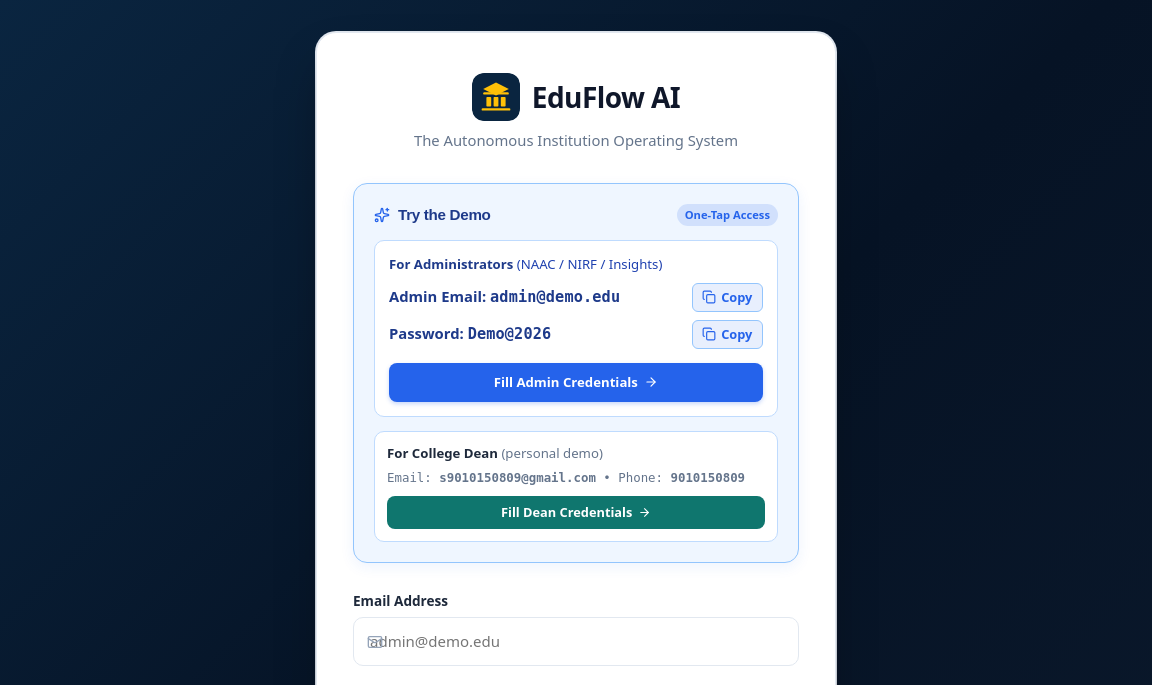
it: LoginPage Component › 503 response shows "Database not seeded yet" with emergency seed link
What coordinates should you click on to do the following:
click the button "Fill Admin Credentials"
I would click on:
 (576, 382)
Its box is left=389, top=363, right=763, bottom=402.
(page scrolled)
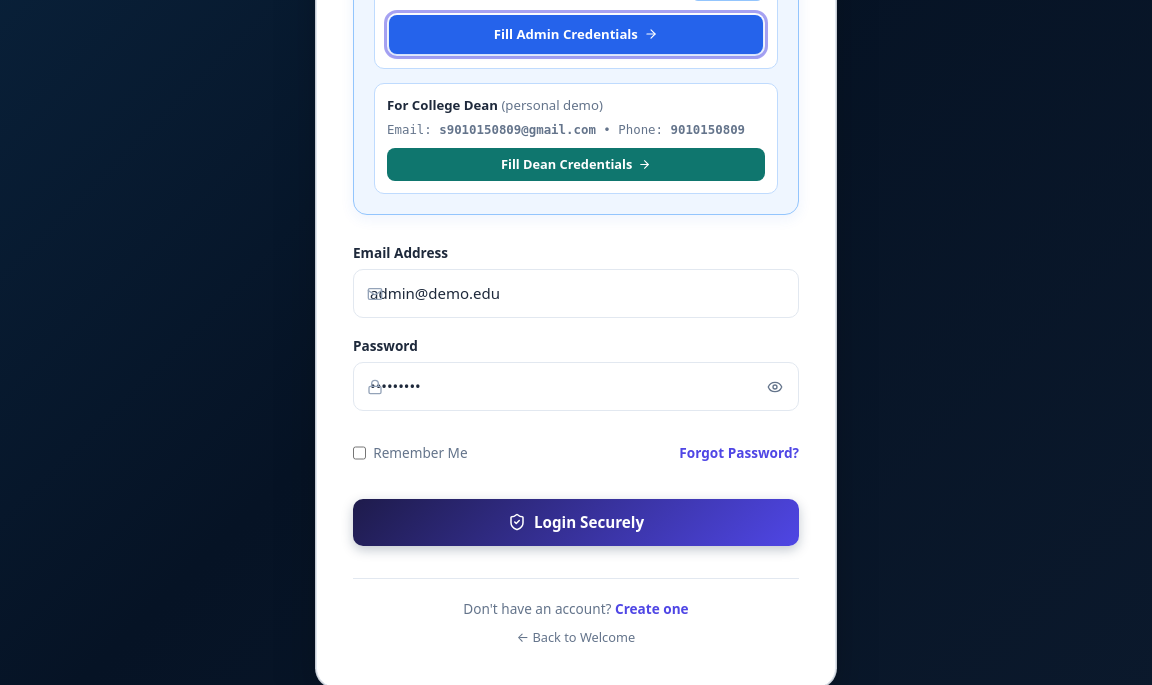
What coordinates should you click on to do the following:
click the button "Login Securely"
I would click on:
 (576, 522)
Its box is left=353, top=499, right=799, bottom=546.
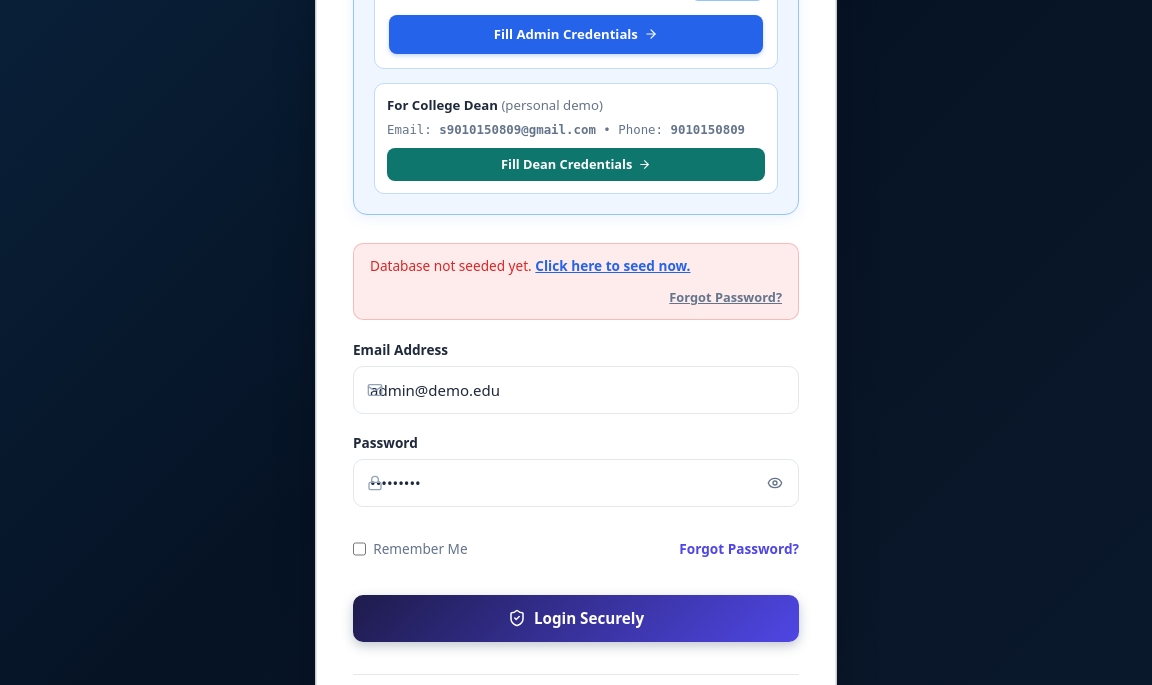
Expected: the message shows "Database not seeded yet. Click here to seed now.", left=353, top=244, right=799, bottom=320
